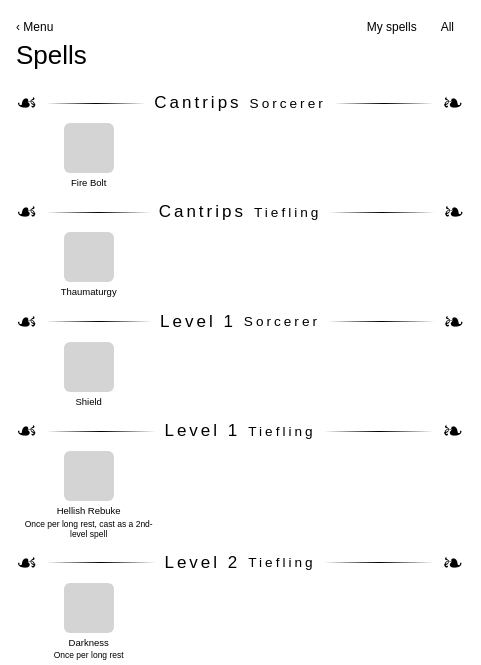
Test: My/All toggle filters and persists
Click the button "All": (447, 27) [431,16,464,38]
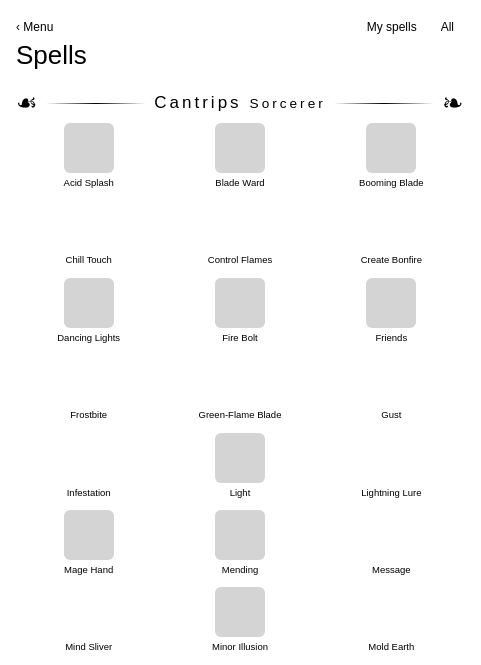
Now the button with class "mine" is shown, box [167,278,313,343]
